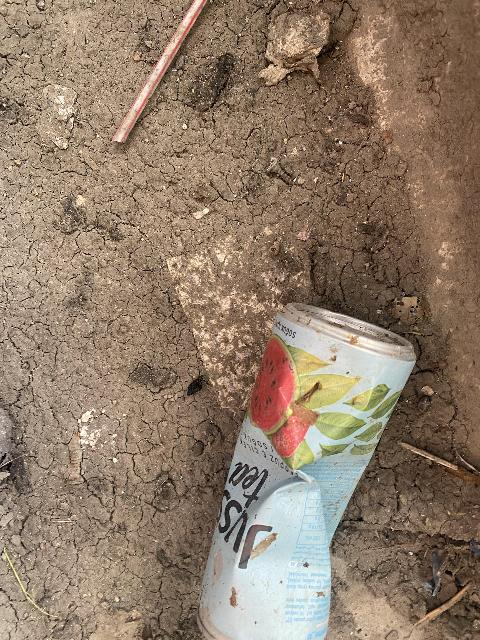Metal: (198, 302, 419, 637)
Plastik: (110, 0, 210, 144)
